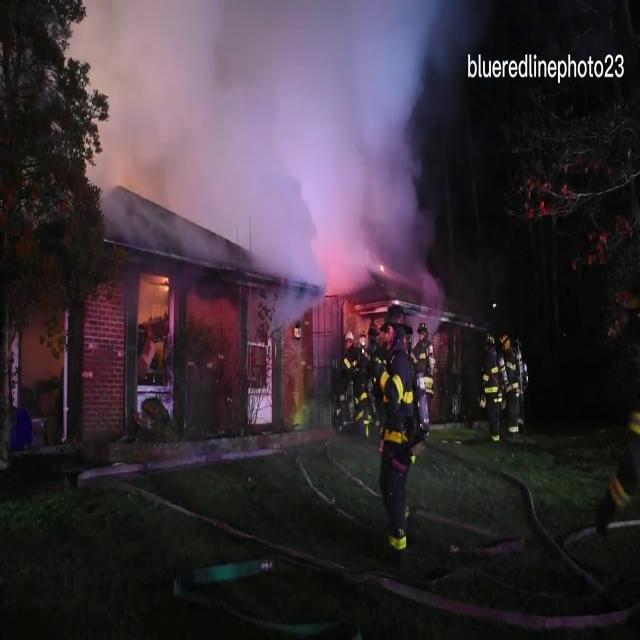Smoke: (62, 1, 438, 268)
